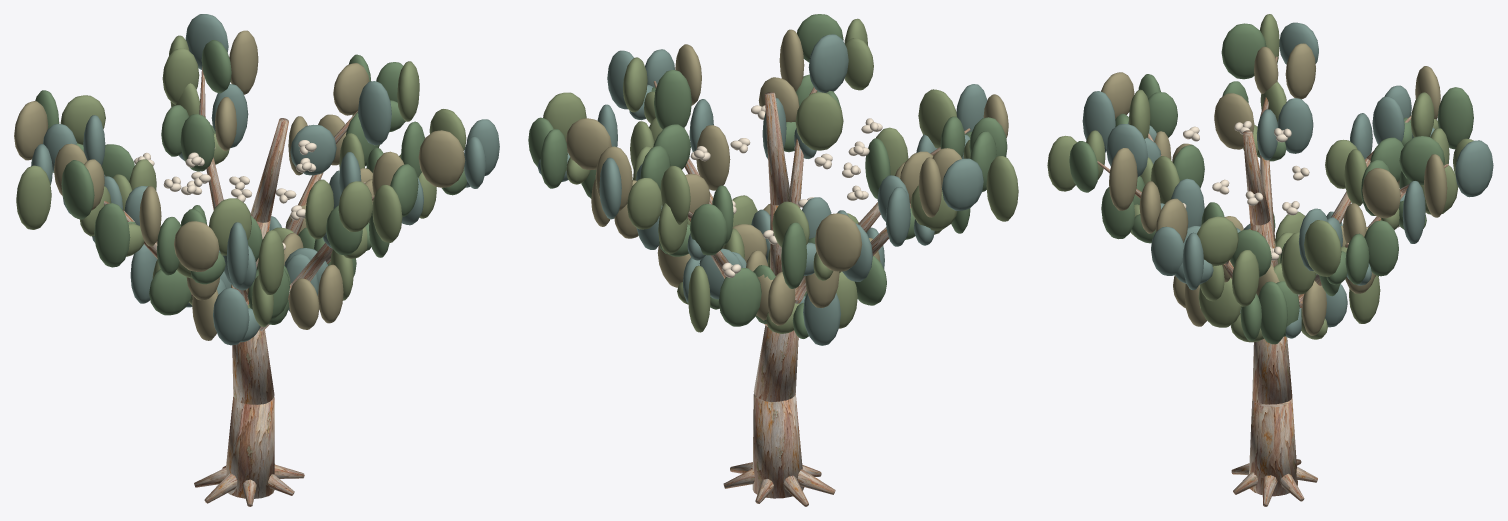
Rendered from gum_tree_hero.glb.
3 renders of one model, left to right at view 1: azimuth 30°, elevation 25°; view 2: azimuth 150°, elevation 25°; view 3: azimuth 270°, elevation 25°, orthographic. The views are drawn at different scales.
Parts seen in each view (by area): view 1: Ribbon gum tree; view 2: Ribbon gum tree; view 3: Ribbon gum tree.
Boxes of the visible parts, x1,y1,x2,y2 form: Ribbon gum tree: (14, 14, 499, 506); Ribbon gum tree: (528, 14, 1018, 506); Ribbon gum tree: (1047, 14, 1493, 506).
Bounding box in the file's own units: 10.62 × 8.84 × 9.55.
Materials: 6 (1 with a texture image).
